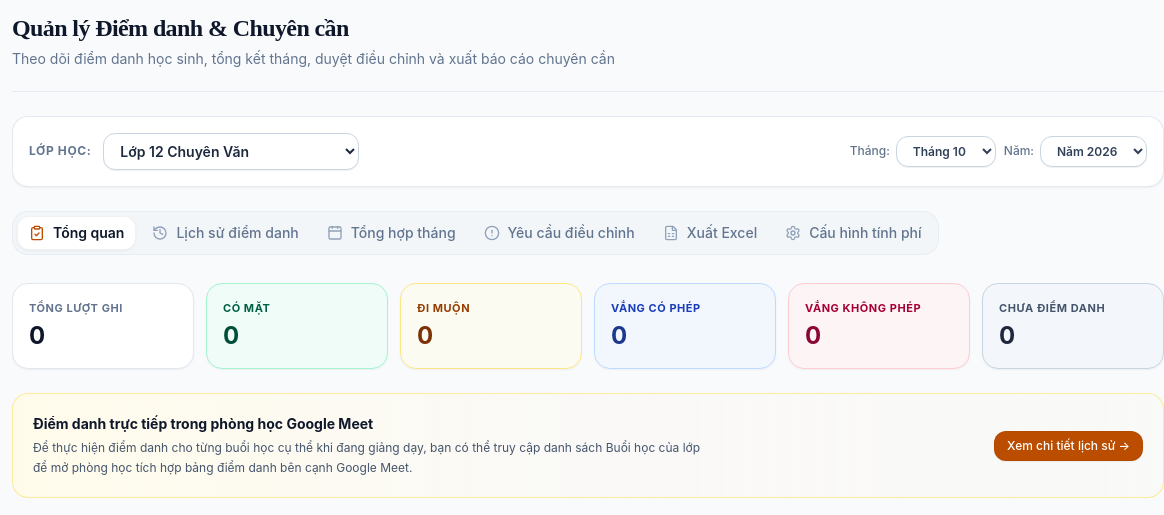
Test: AttendancePage › switches to History tab and displays history list
Click the button "Lịch sử điểm danh": point(226, 233) [140,216,311,250]
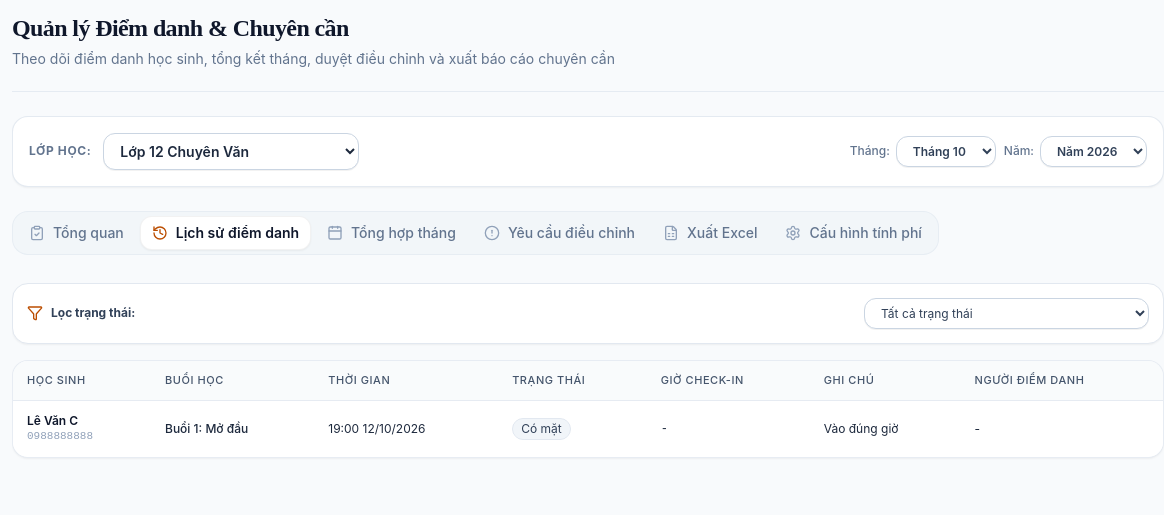
Expected: the text "Buổi 1: Mở đầu" is shown, [151,401,314,457]
Expected: the text "Vào đúng giờ" is shown, [810,401,960,457]
